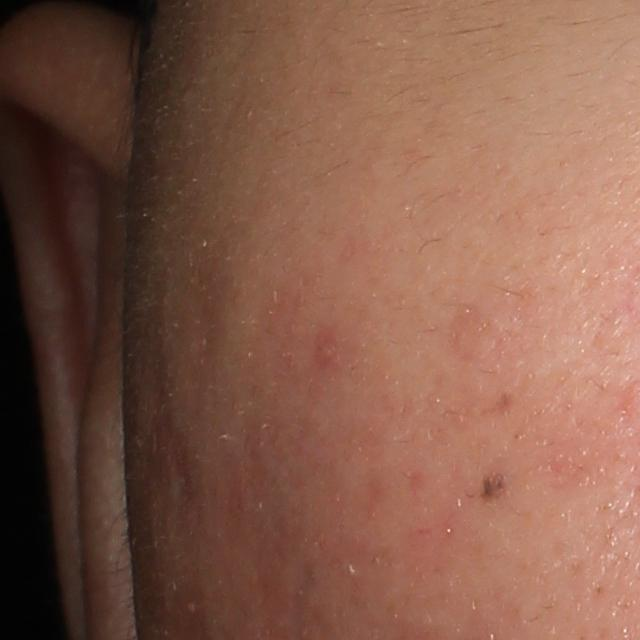nevus: (469, 472, 517, 506)
